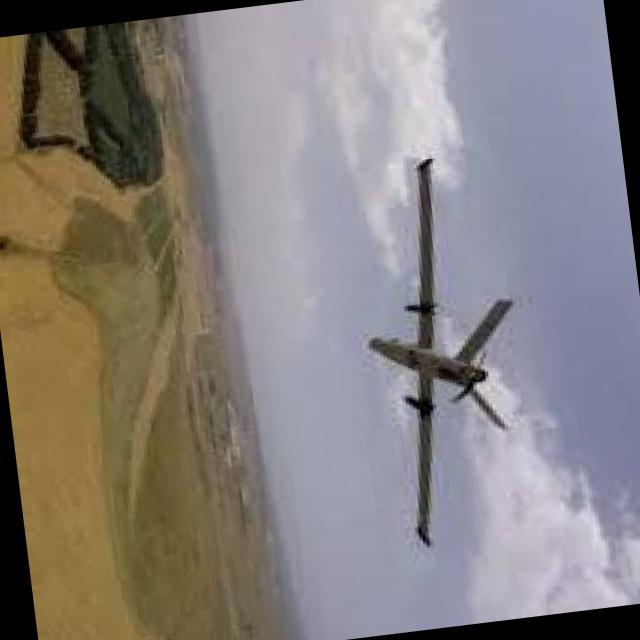UAV: (346, 141, 544, 558)
